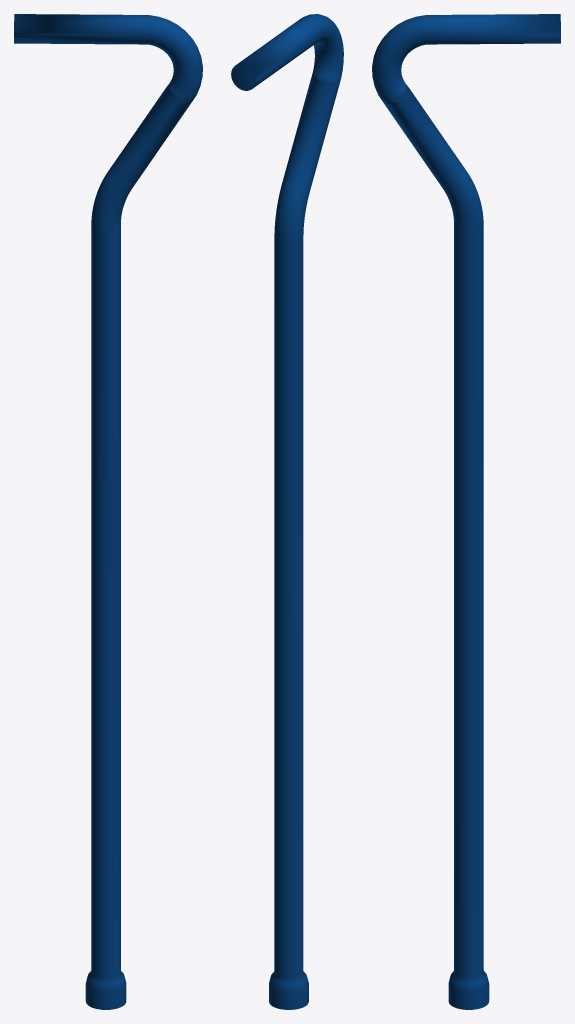
Rendered from stick1.glb.
The picture shows the model from 3 angles, left to right: view 1: azimuth 90°, elevation 25°; view 2: azimuth 150°, elevation 25°; view 3: azimuth 270°, elevation 25°; orthographic projection.
Parts seen in each view (by area): view 1: 柱体; view 2: 柱体; view 3: 柱体.
Part boxes in pixels (<box>): 柱体: <box>14,14,202,1009</box>; 柱体: <box>231,14,343,1009</box>; 柱体: <box>372,14,560,1009</box>.
Size of the model in its own units: 0.1442 by 3.86 by 0.671.
